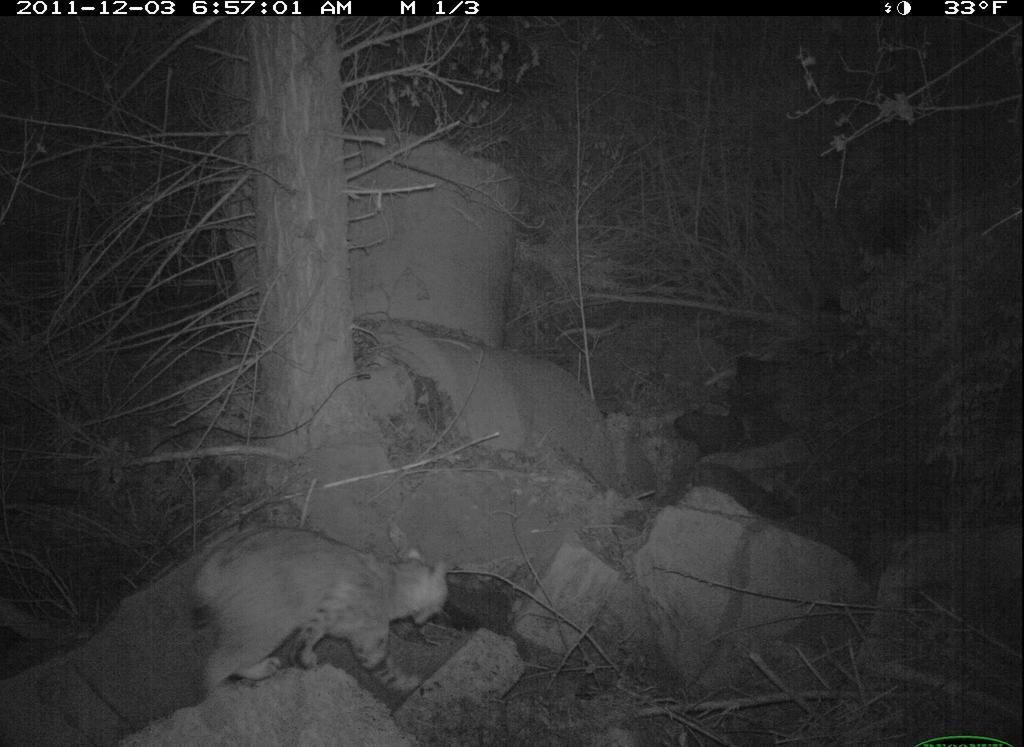bobcat: (162, 514, 473, 720)
